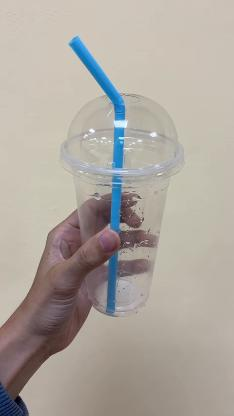Plastic Cup: (59, 93, 183, 317)
